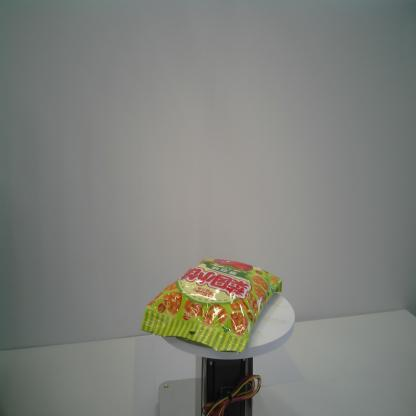Puffed Food: (139, 257, 283, 354)
